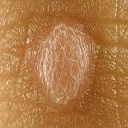Wart: (37, 22, 100, 107)
